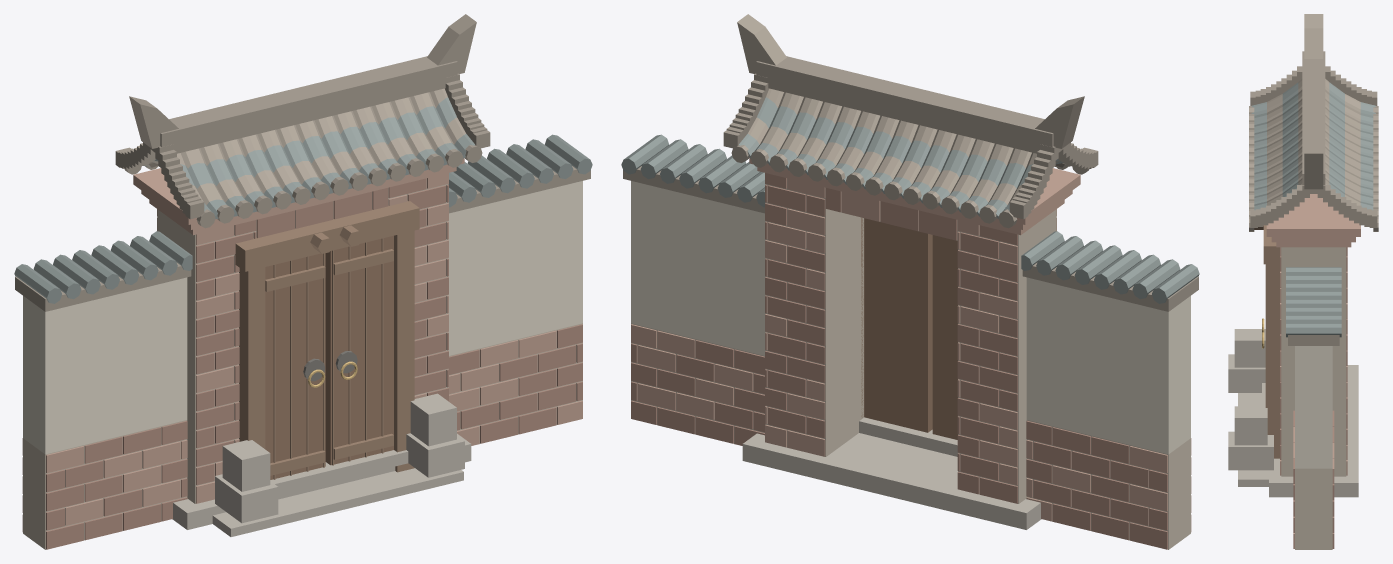
Rendered from Suiqiang_Gate.glb.
The picture shows the model from 3 angles, left to right: view 1: azimuth 30°, elevation 25°; view 2: azimuth 150°, elevation 25°; view 3: azimuth 270°, elevation 25°; orthographic projection. The views are drawn at different scales.
Visible parts, largest first — view 1: Jinzhu Gate; view 2: Jinzhu Gate; view 3: Jinzhu Gate.
Part boxes in pixels (x1,y1,x2,y2): Jinzhu Gate: [14, 14, 592, 549]; Jinzhu Gate: [621, 14, 1199, 549]; Jinzhu Gate: [1228, 14, 1378, 549].
Bounding box in the file's own units: 5.38 × 3.93 × 1.51.
